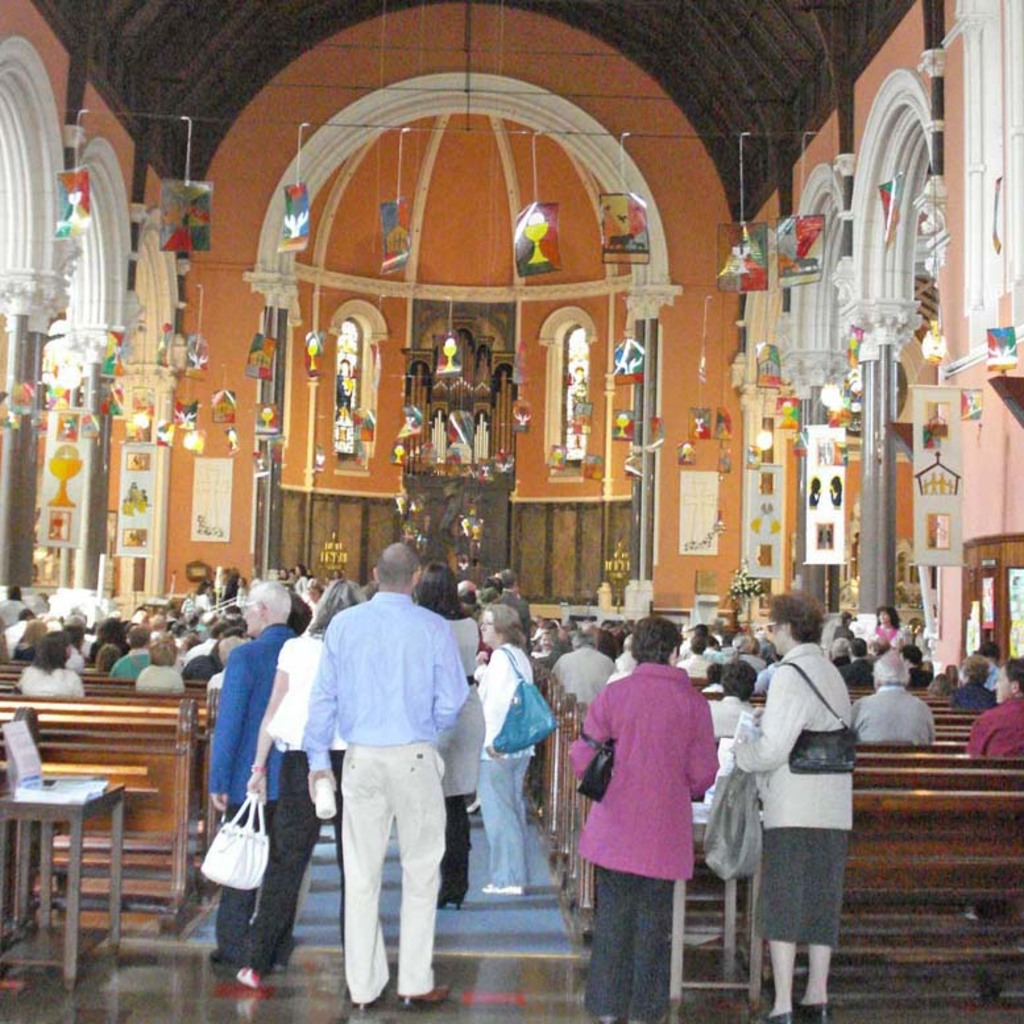Person: (0, 542, 1024, 1023)
